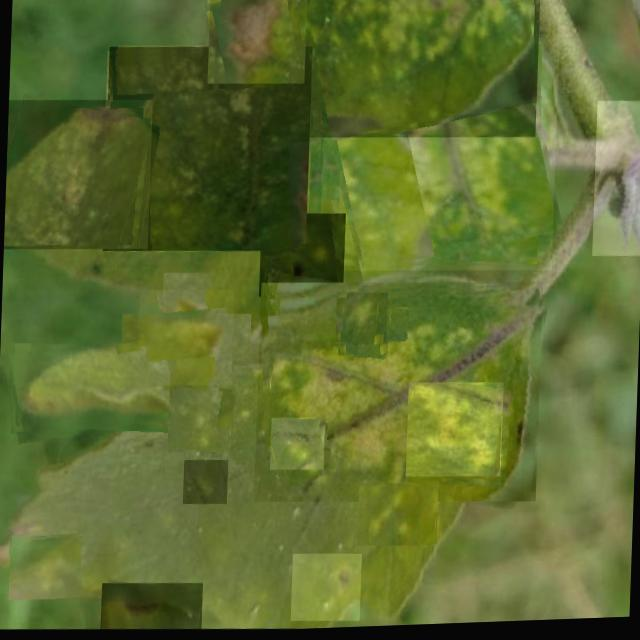leaf_spot: (253, 276, 542, 513), (317, 34, 558, 281), (101, 41, 311, 259), (275, 0, 539, 148), (2, 96, 152, 254), (4, 338, 172, 445), (404, 382, 502, 482), (136, 288, 232, 389), (206, 0, 306, 88), (591, 103, 640, 262), (258, 213, 344, 302), (356, 481, 438, 551), (98, 581, 202, 633), (7, 532, 82, 602), (290, 554, 360, 625), (166, 385, 233, 454), (268, 418, 324, 474), (334, 293, 386, 349), (181, 459, 227, 507)
